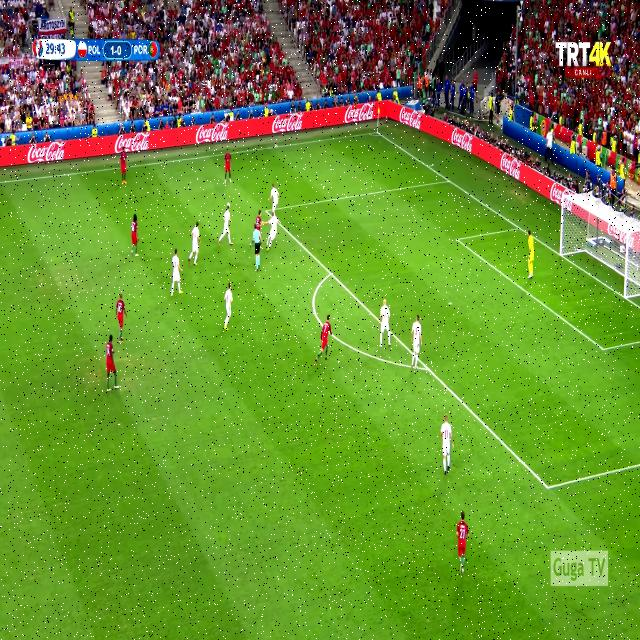GoalKeeper: (523, 227, 539, 289)
TEAM 1: (314, 316, 332, 365), (105, 336, 120, 394), (458, 514, 470, 576), (118, 147, 130, 190), (253, 212, 266, 248), (117, 295, 128, 336), (130, 214, 139, 257), (224, 153, 233, 184)
TEAM 2: (440, 412, 454, 478), (379, 299, 393, 348), (170, 252, 184, 297), (219, 206, 234, 247), (412, 315, 423, 370), (266, 213, 278, 258), (224, 284, 235, 330), (190, 224, 202, 264), (269, 185, 280, 217)
